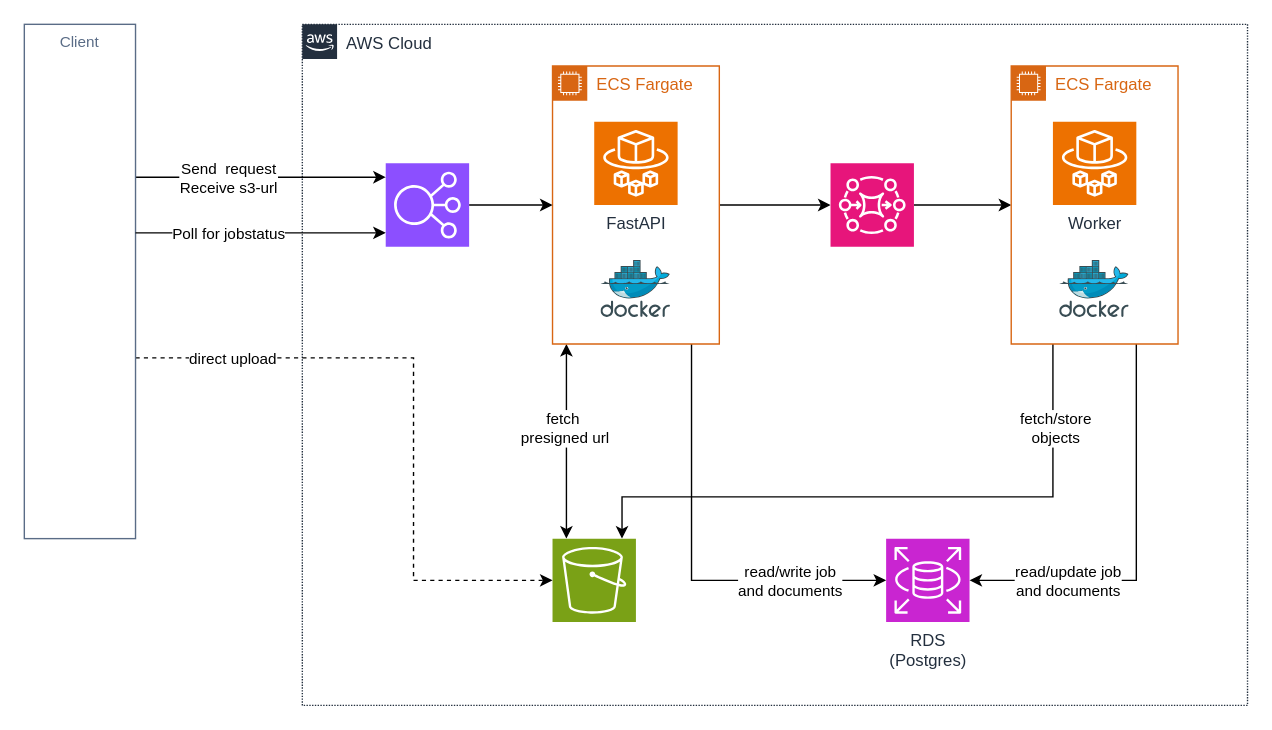
Image size: 1272x730. Some labels were removed from this diagram. Each missing label, with the centre of its shape:
AmazonMQ (RabbitMQ): (871,204)
Load Balancer: (426,204)
S3 Bucket: (593,579)
